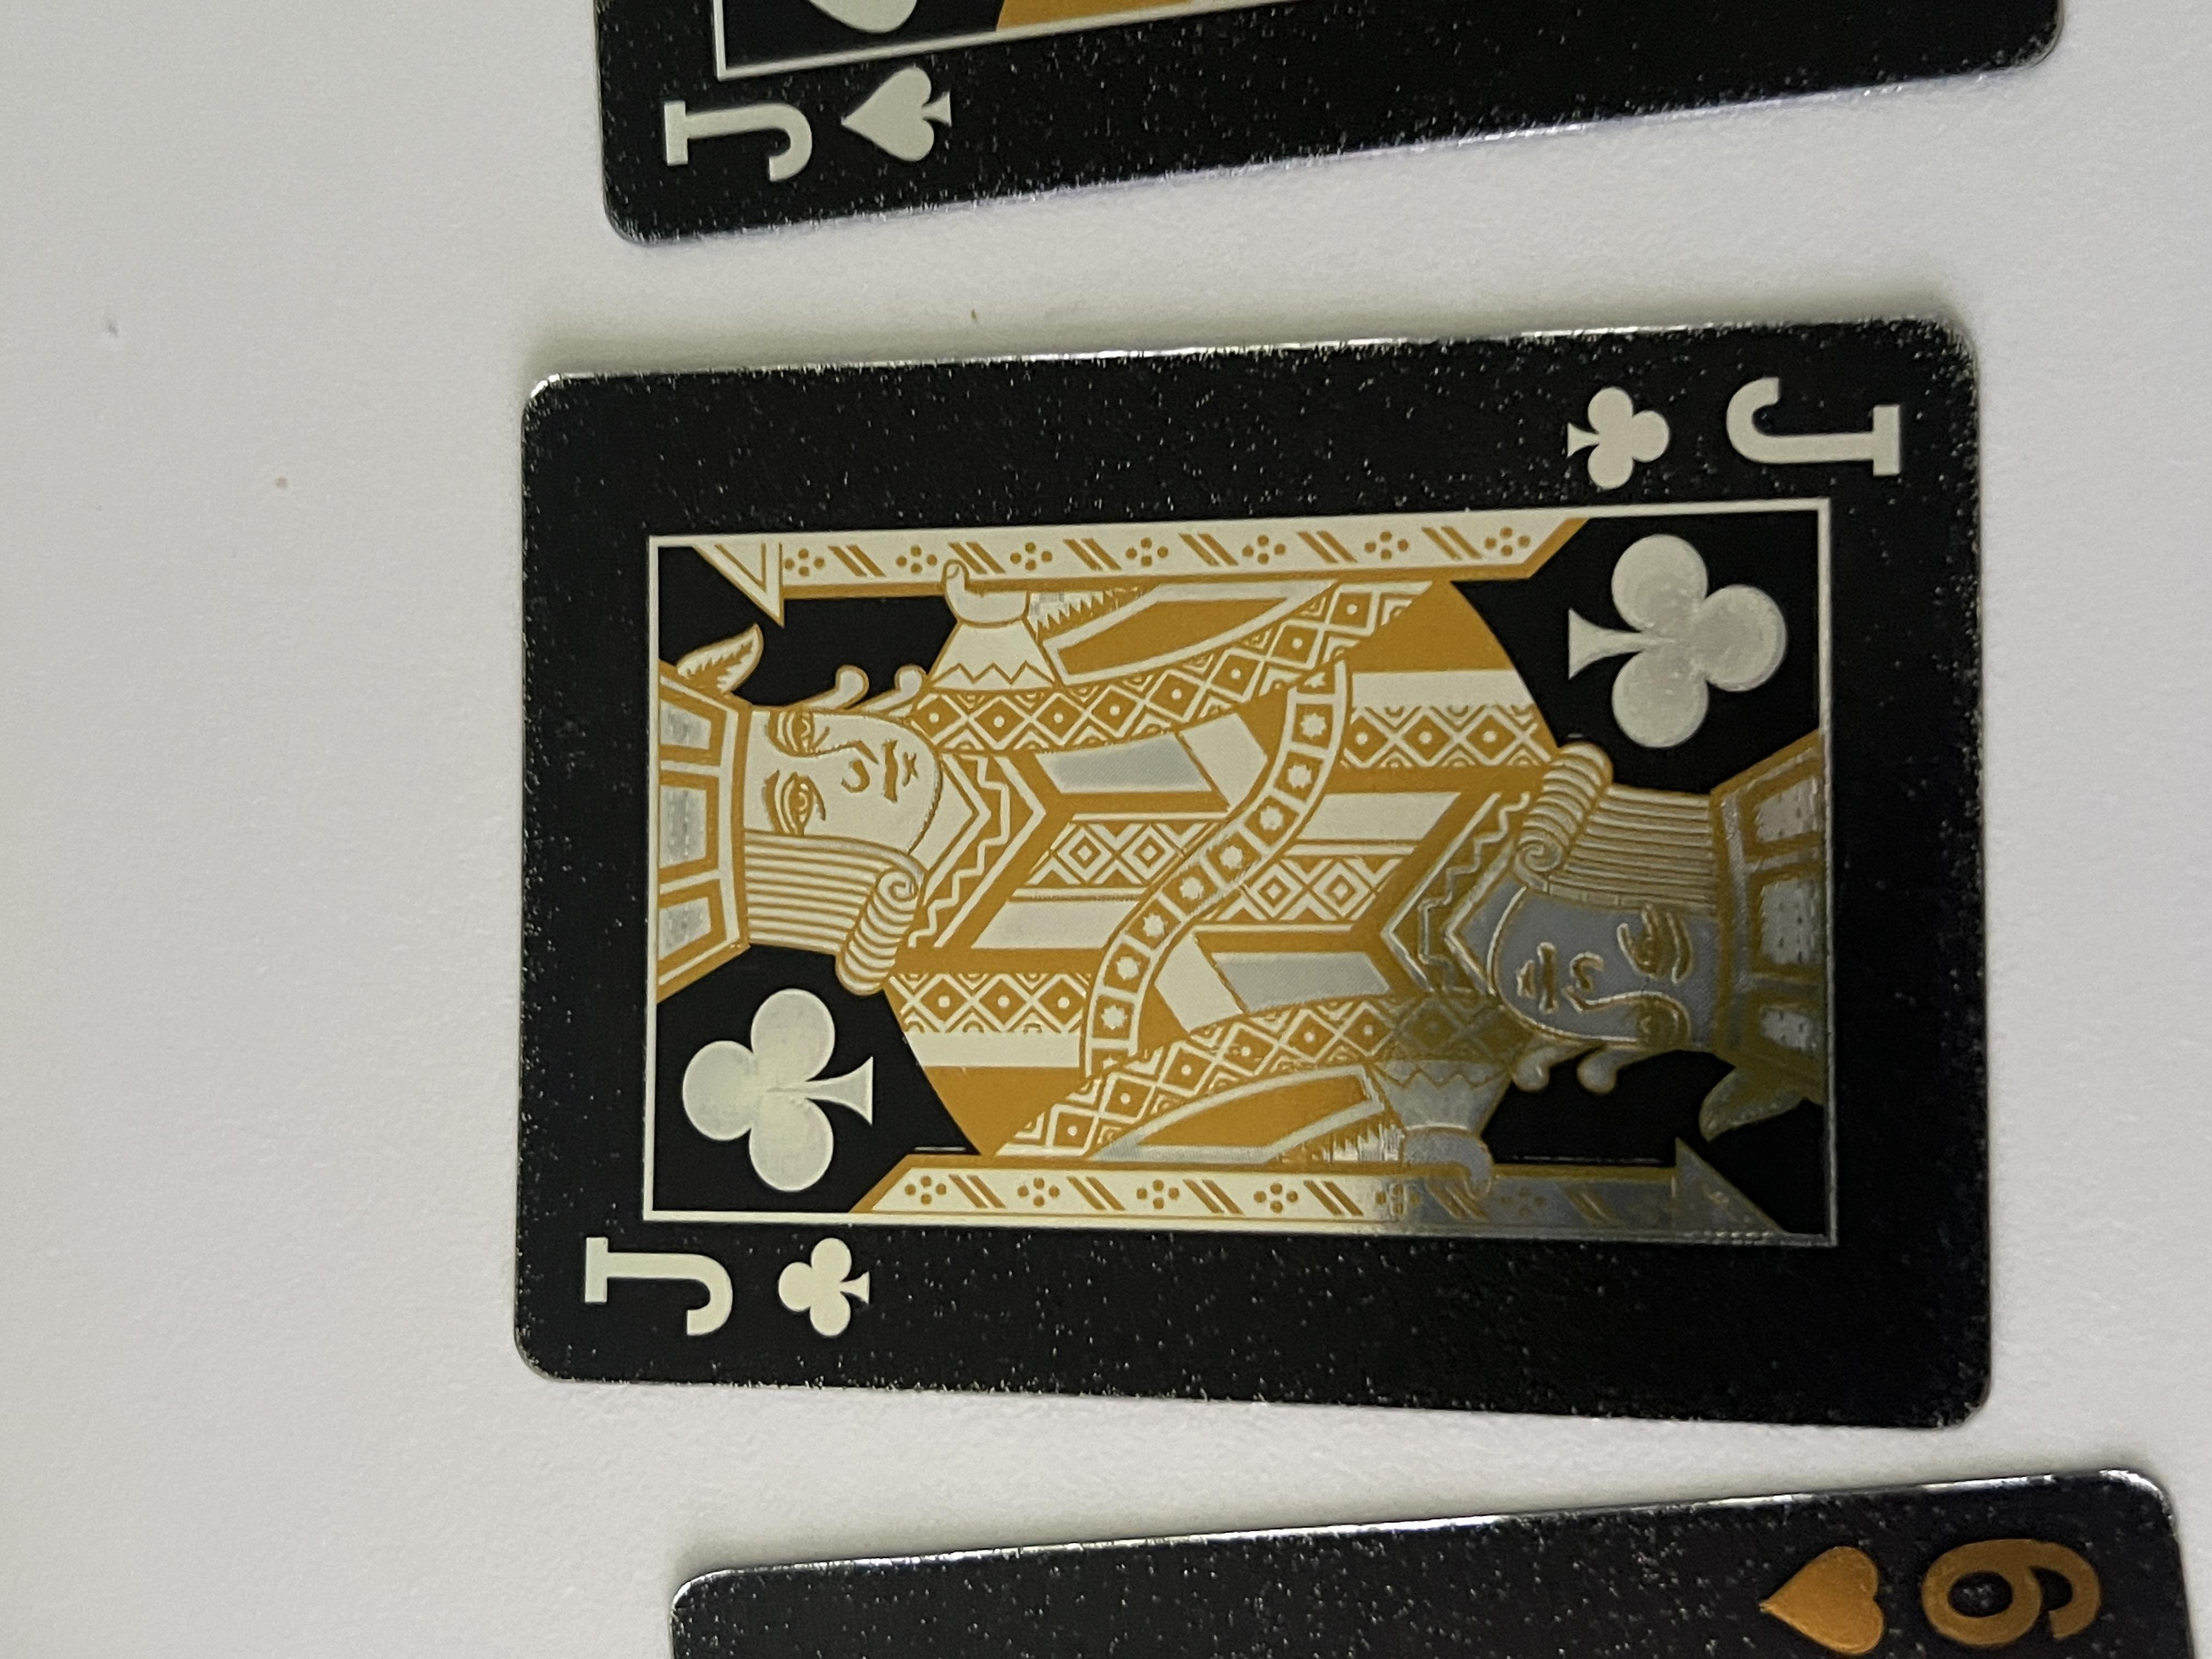6H: (0, 1298, 186, 1615)
JC: (1536, 1155, 1756, 1439), (425, 411, 596, 674)
JS: (1916, 465, 2139, 739)
